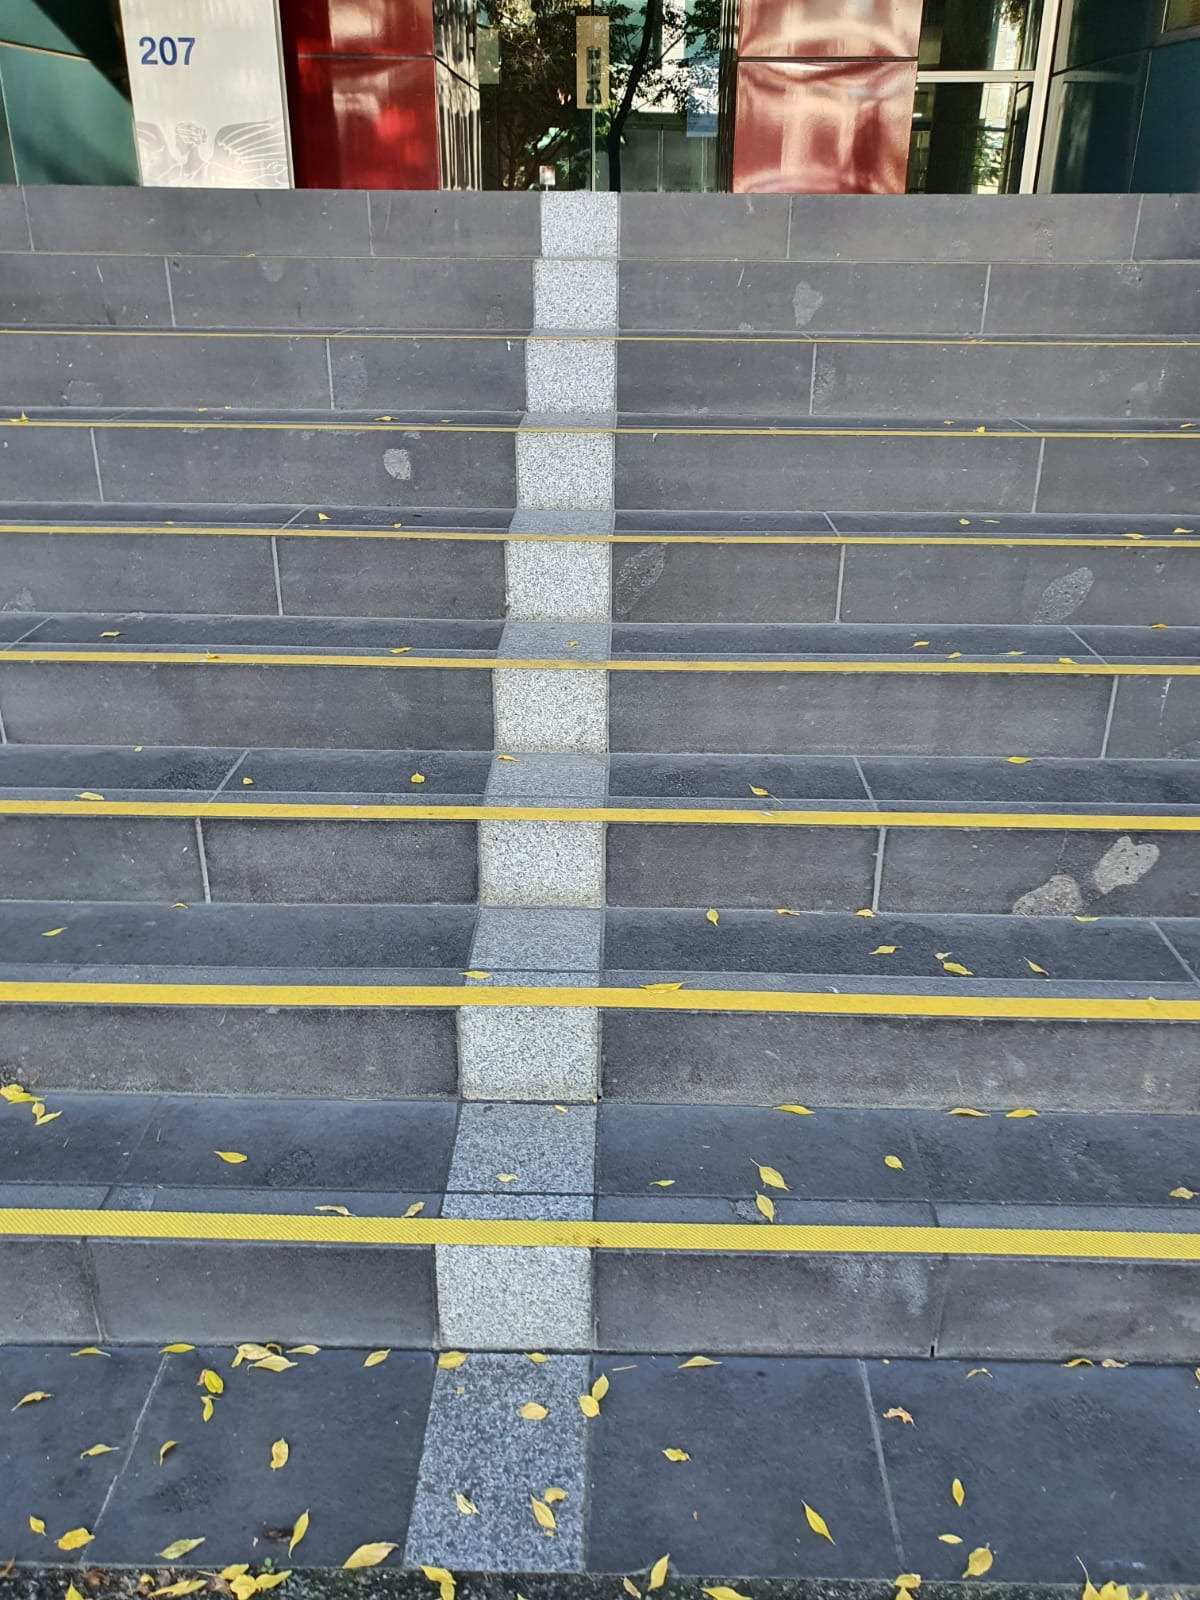upstairs: (1, 547, 1200, 1429)
